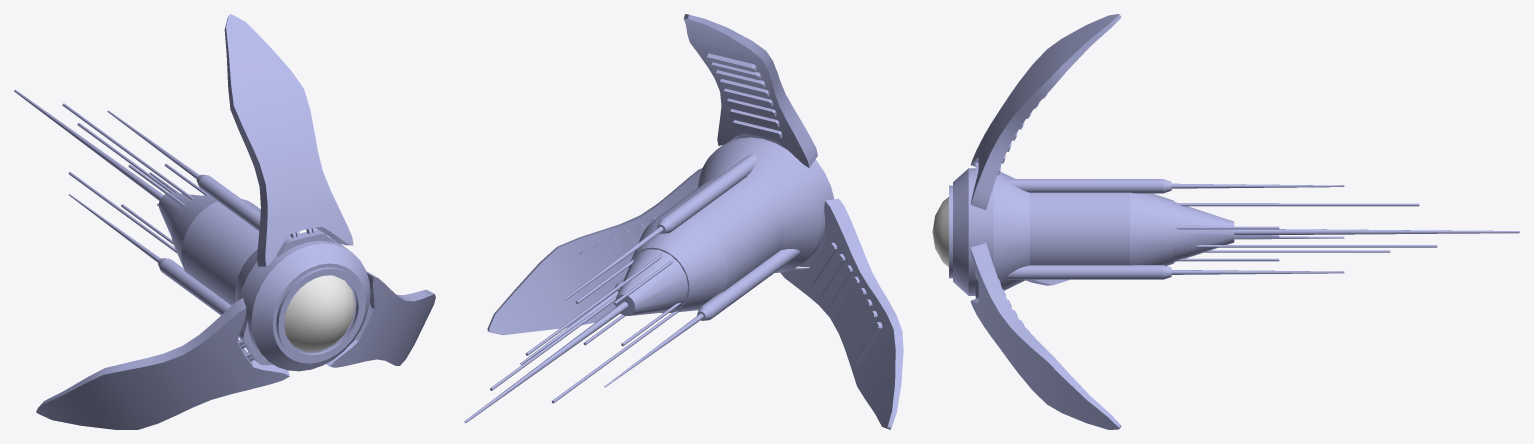
The model's file is Роботы_002.fbx.
3 renders of one model, left to right at view 1: azimuth 30°, elevation 25°; view 2: azimuth 150°, elevation 25°; view 3: azimuth 270°, elevation 25°, orthographic. The views are drawn at different scales.
Visible parts, largest first — view 1: WMKVCK_low; view 2: WMKVCK_low; view 3: WMKVCK_low.
Part boxes in pixels (left/top/right/bottom): WMKVCK_low: left=14, top=14, right=435, bottom=429; WMKVCK_low: left=464, top=14, right=903, bottom=429; WMKVCK_low: left=932, top=14, right=1519, bottom=429.
Size of the model in its own units: 0.4483 by 0.3951 by 0.6309.
